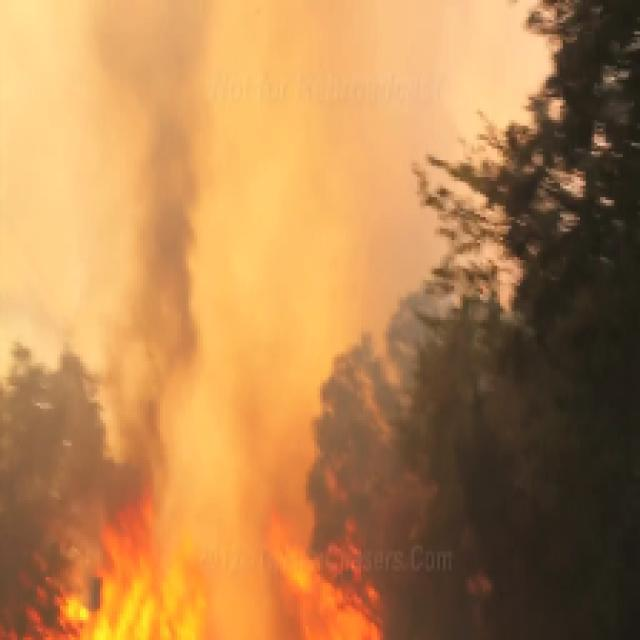Fire: (0, 480, 391, 640)
Smoke: (3, 0, 640, 500)
